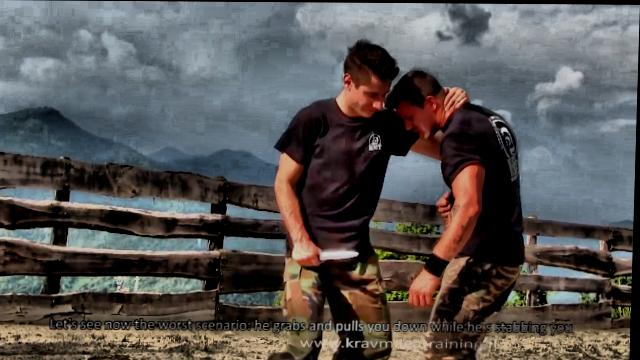knife: (289, 242, 363, 270)
